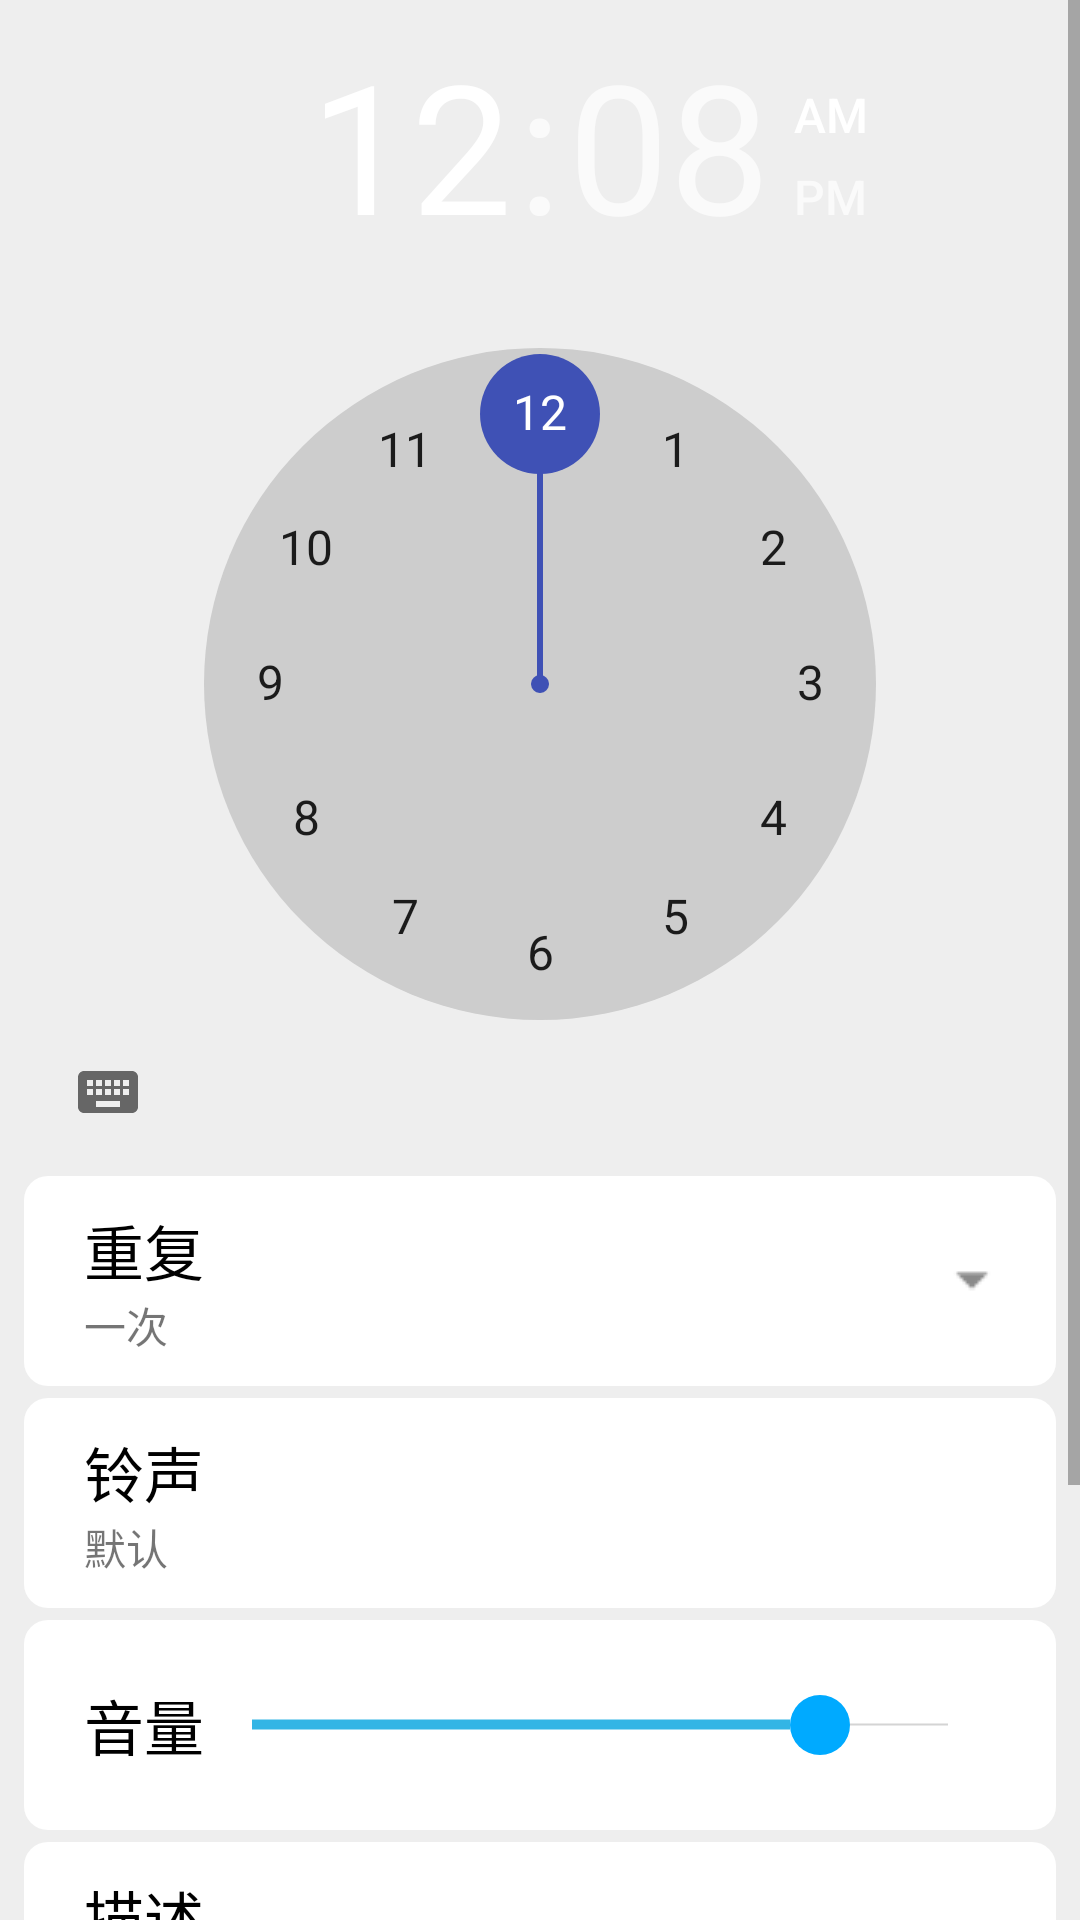

Point at icon controls on the screen. Image size 1080 × 1920, points as point (x, y).
arrow down: point (972, 1279)
